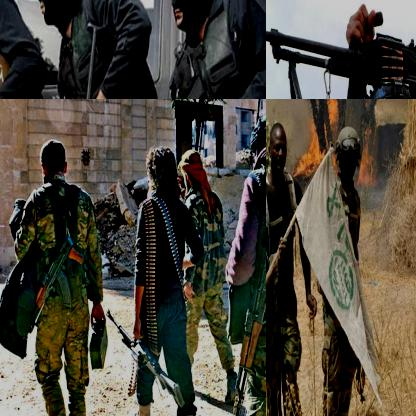rifle: (266, 0, 415, 98), (224, 167, 265, 415), (106, 309, 184, 410), (26, 235, 84, 333), (67, 19, 127, 98)
